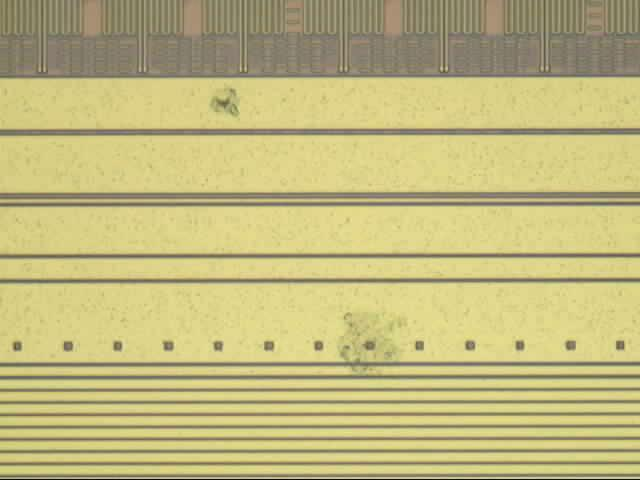PO CONTAMINATION: (208, 83, 414, 385)
